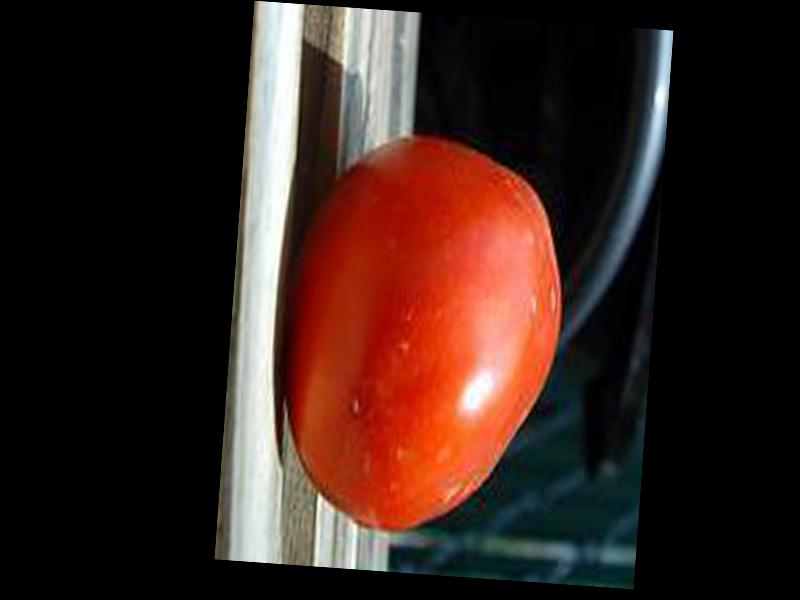Tomato: (276, 130, 573, 543)
